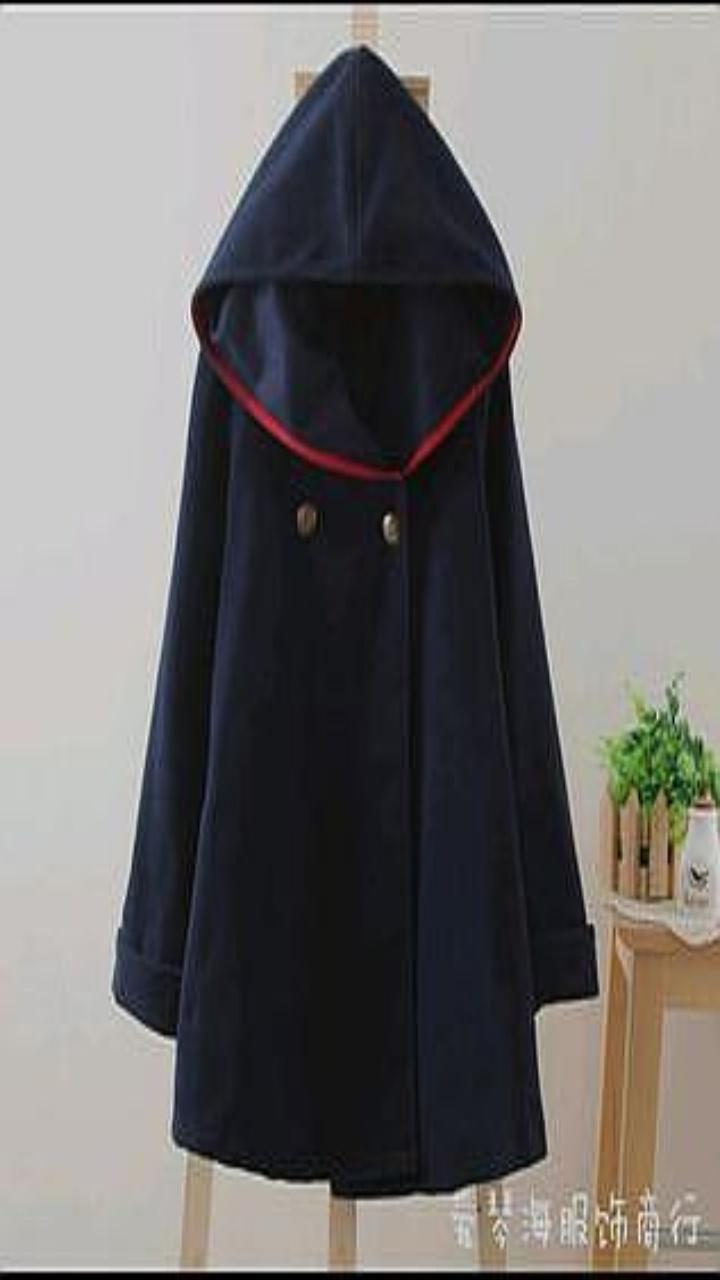Coat: (112, 47, 597, 1196)
